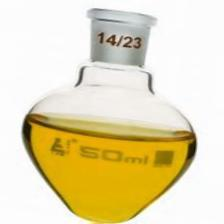Pear shaped flask: (9, 10, 196, 220)
